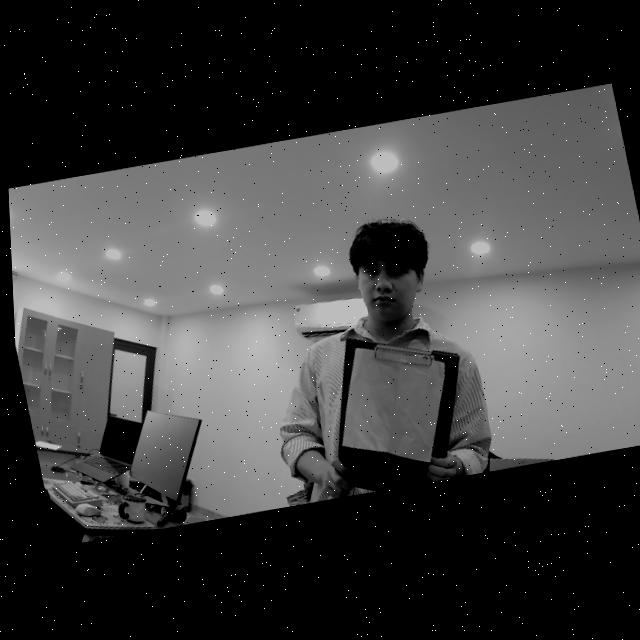face: (348, 231, 436, 332)
